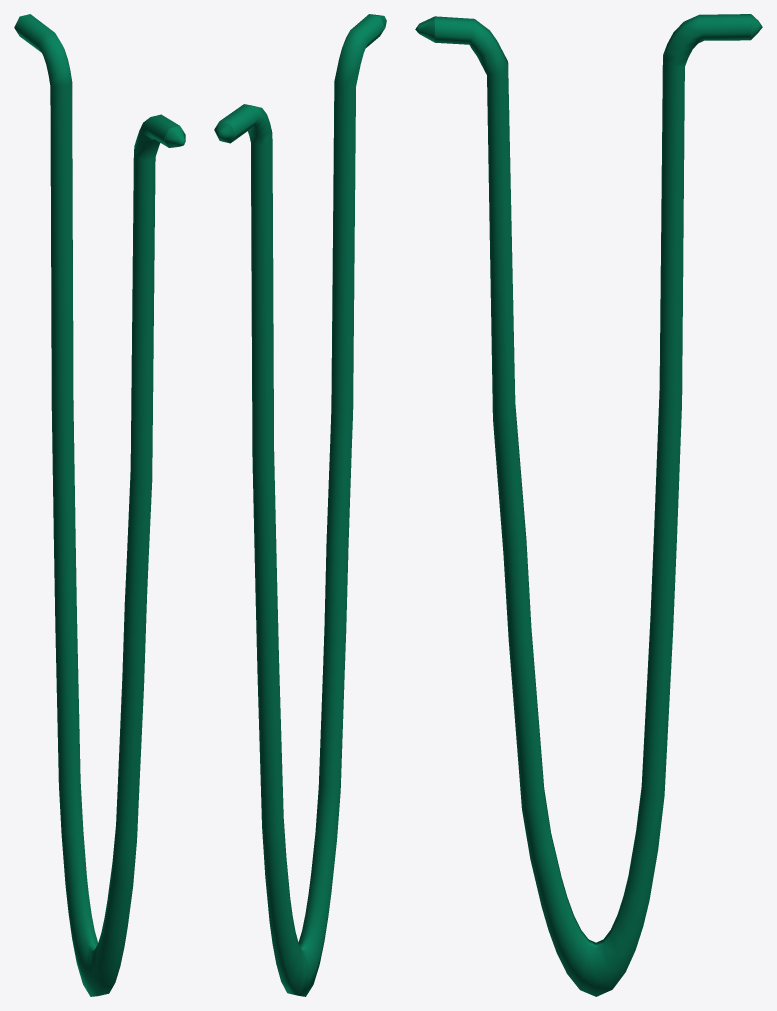
The model's file is LongVine_01.fbx.
The picture shows the model from 3 angles, left to right: view 1: azimuth 30°, elevation 25°; view 2: azimuth 150°, elevation 25°; view 3: azimuth 270°, elevation 25°; orthographic projection. The views are drawn at different scales.
Parts seen in each view (by area): view 1: longUVine_01; view 2: longUVine_01; view 3: longUVine_01.
Part boxes in pixels (box(x1,y1,x2,y2)): longUVine_01: box(14, 14, 185, 996); longUVine_01: box(214, 14, 386, 996); longUVine_01: box(415, 14, 762, 996).
Bounding box in the file's own units: 0.34 × 12.57 × 4.05.
